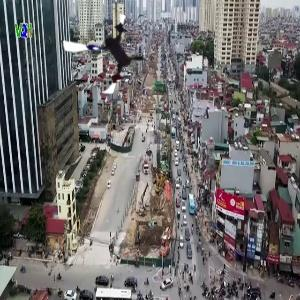drone: (61, 7, 153, 99)
